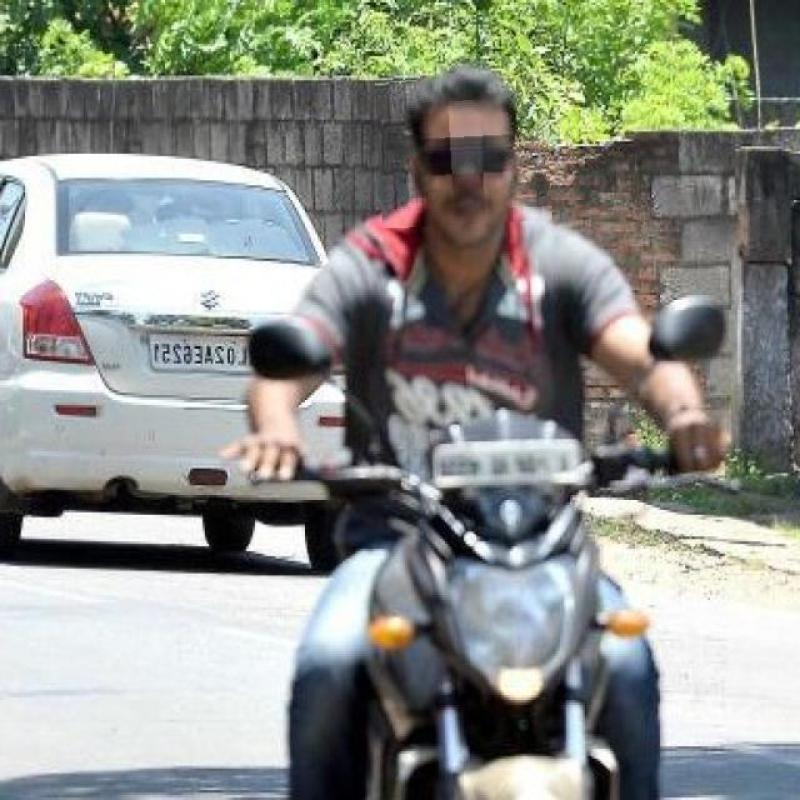nohelmet: (377, 75, 550, 226)
